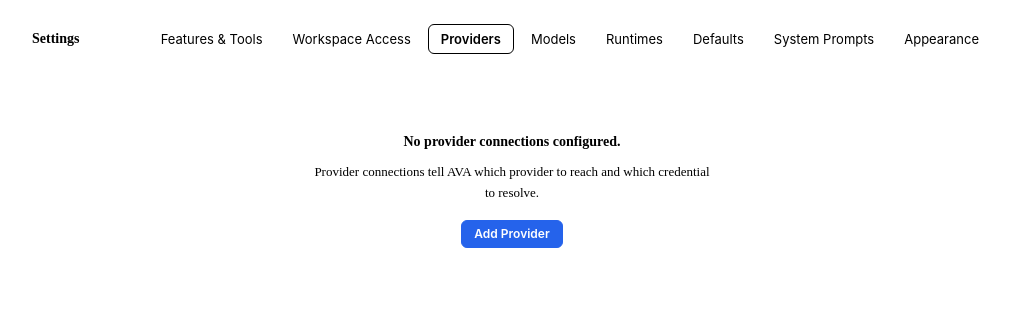
Test case: Settings runtime section › loads configured runtimes
Click the tab "Runtimes": (634, 39) 593,24 -> 676,54
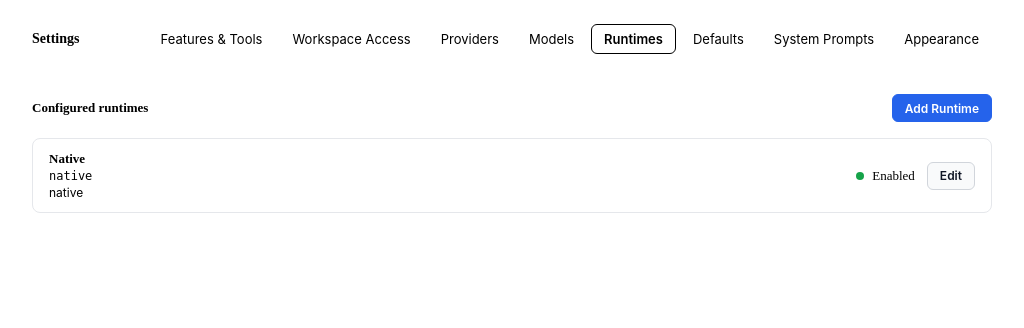
Result: the text "Native" is shown at 49,151 -> 85,166
Result: the text with test id "settings-inventory-entry-id" reads "native" at 49,169 -> 92,183
Result: the text with test id "settings-inventory-entry-meta" reads "native" at 49,185 -> 83,200
